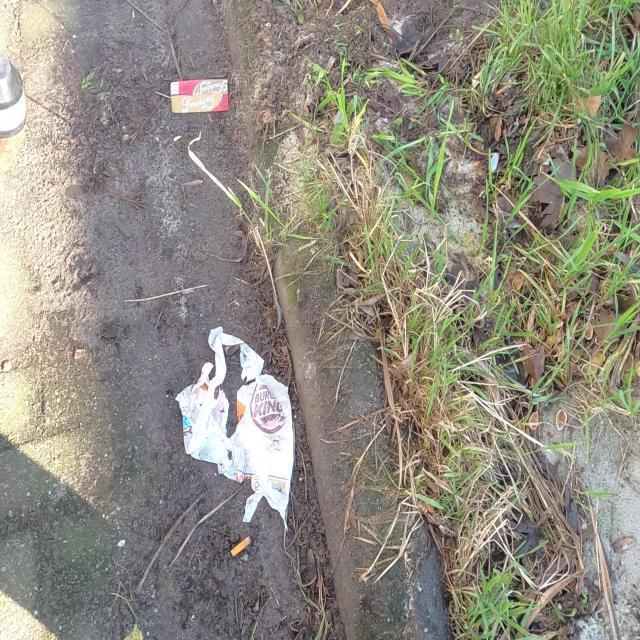Paper: (174, 325, 296, 534)
Plastic: (170, 78, 229, 114)
